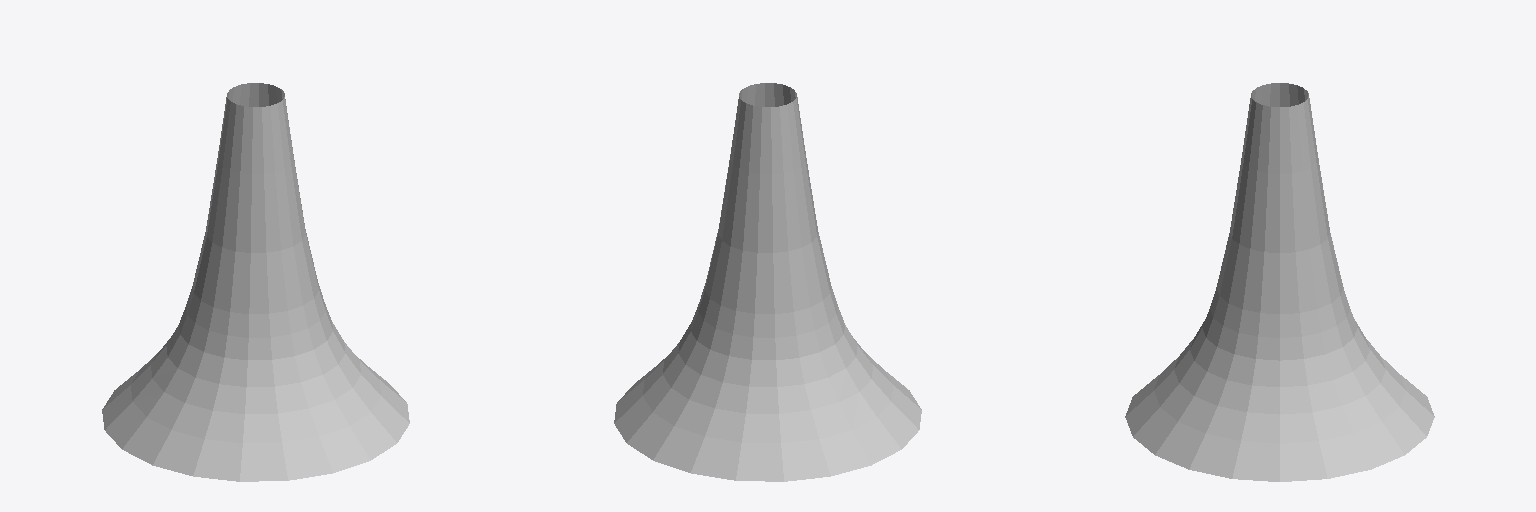
The model's file is Boss_Nuke_Explosion_Stiel_01.obj.
3 views of the same model, side by side, from view 1: azimuth 30°, elevation 25°; view 2: azimuth 150°, elevation 25°; view 3: azimuth 270°, elevation 25° (orthographic).
Visible parts, largest first — view 1: Stiel; view 2: Stiel; view 3: Stiel.
Part boxes in pixels (x1,y1,x2,y2): Stiel: (102, 83, 409, 481); Stiel: (614, 83, 921, 481); Stiel: (1125, 83, 1434, 481).
Bounding box in the file's own units: 2 × 2.29 × 2.